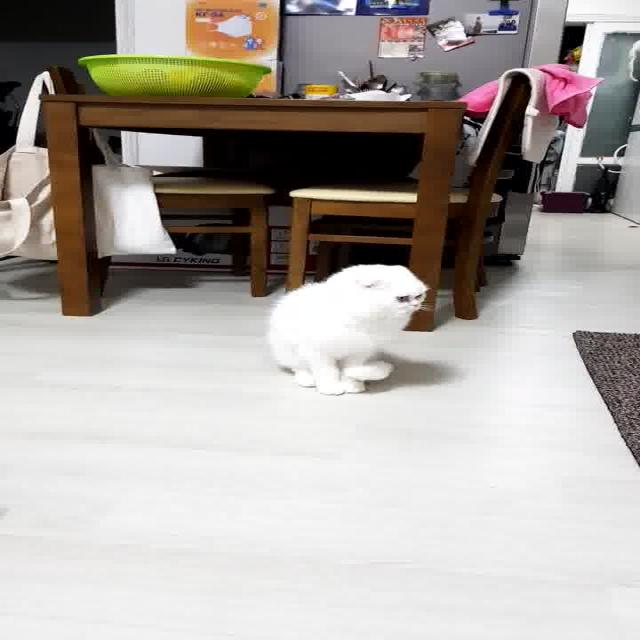cat: (244, 255, 448, 409)
